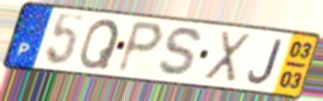5: (44, 13, 87, 69)
J: (246, 38, 284, 85)
P: (113, 18, 166, 76)
Q: (77, 17, 123, 71)
S: (155, 25, 206, 80)
X: (200, 29, 254, 86)
